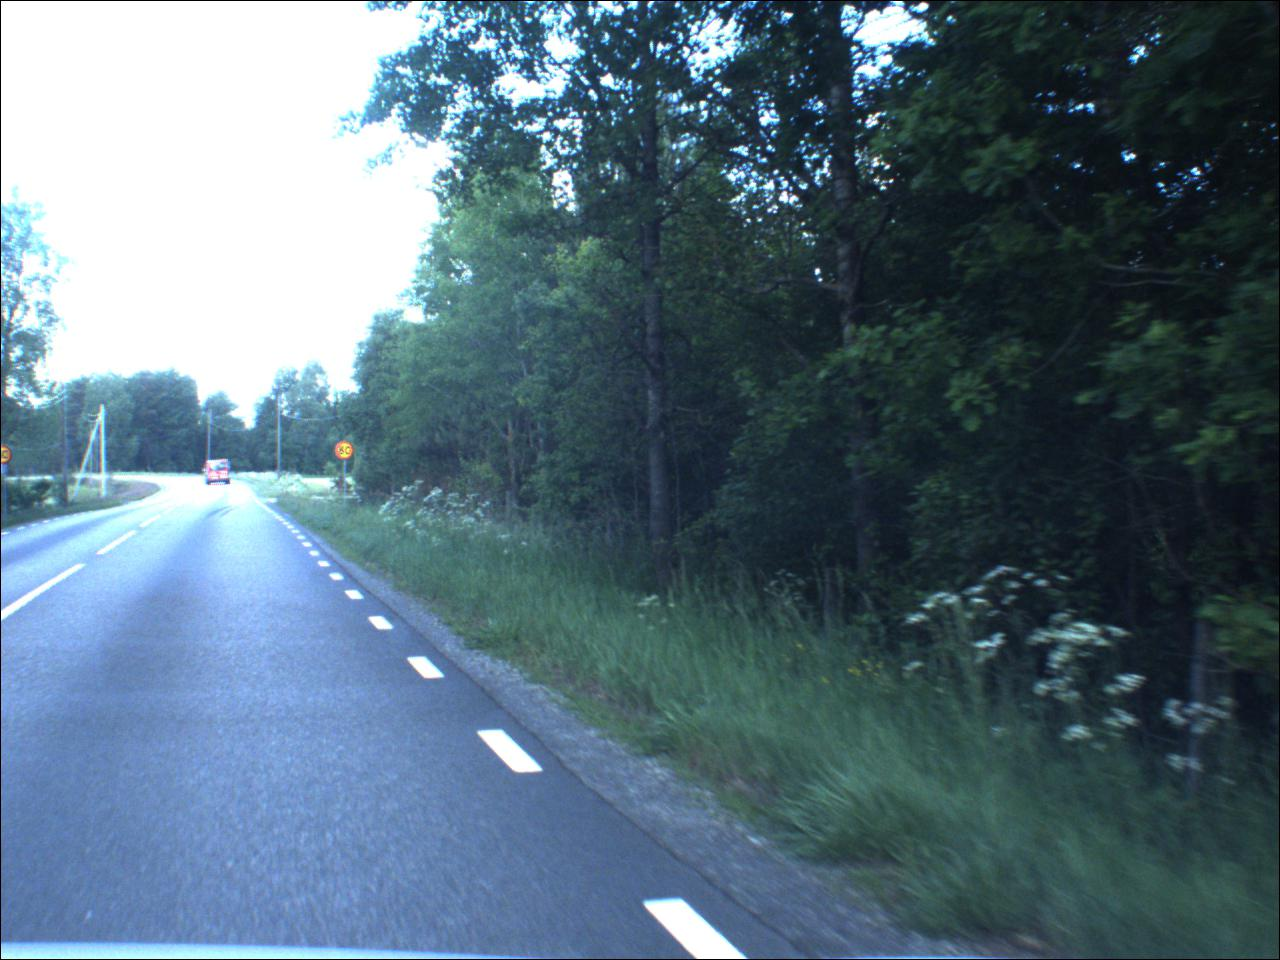80_SIGN: (337, 443, 357, 463), (4, 448, 14, 466)
